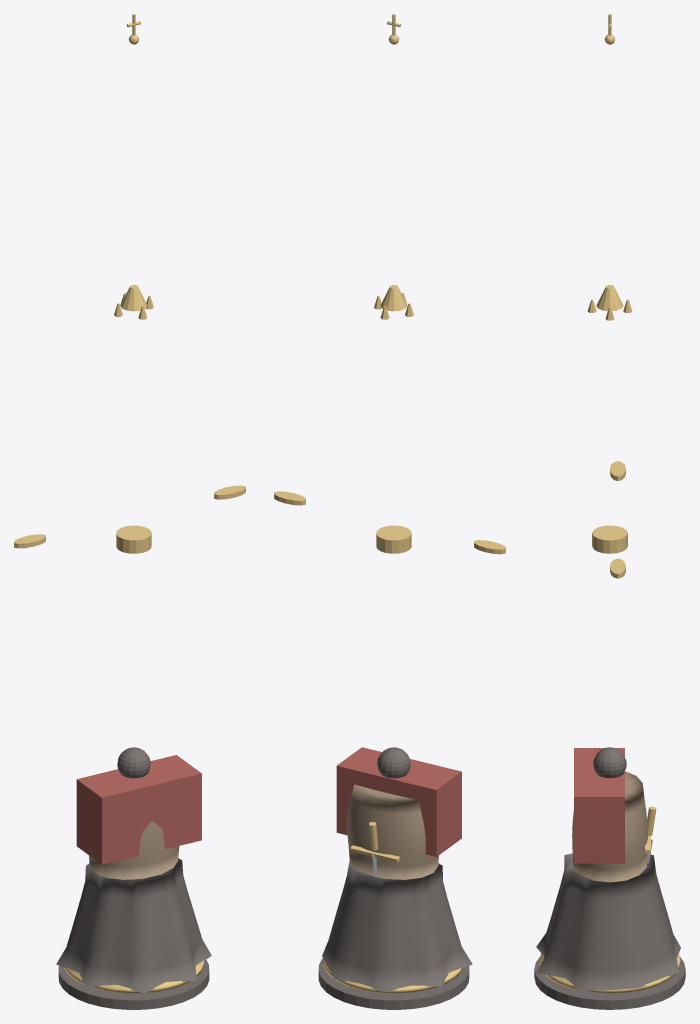
3 renders of one model, left to right at view 1: azimuth 30°, elevation 25°; view 2: azimuth 150°, elevation 25°; view 3: azimuth 270°, elevation 25°, orthographic.
Parts seen in each view (by area): view 1: Raja_Robe, Raja_Mantle, Plinth_Stone, Raja_Cuirass, Raja_CrownTier1, Raja_Head, Plinth_GoldRim; view 2: Raja_Robe, Raja_Mantle, Raja_Cuirass, Plinth_Stone, Raja_CrownTier1, Raja_Head, Plinth_GoldRim; view 3: Raja_Robe, Raja_Mantle, Raja_Cuirass, Plinth_Stone, Raja_CrownTier1, Raja_Head, Plinth_GoldRim, Raja_CrownFinial.
Part boxes in pixels (box(x1,y1,x2,y2)): Raja_Robe: box(56, 858, 211, 993); Raja_Mantle: box(76, 755, 201, 864); Plinth_Stone: box(58, 960, 209, 1009); Raja_Cuirass: box(89, 821, 179, 879); Raja_CrownTier1: box(116, 525, 151, 553); Raja_Head: box(117, 747, 150, 778); Plinth_GoldRim: box(64, 960, 203, 993); Raja_Robe: box(322, 860, 472, 992); Raja_Mantle: box(336, 747, 461, 856); Raja_Cuirass: box(347, 784, 438, 879); Plinth_Stone: box(318, 958, 469, 1009); Raja_CrownTier1: box(376, 525, 411, 553); Raja_Head: box(377, 747, 410, 778); Plinth_GoldRim: box(323, 959, 463, 993); Raja_Robe: box(536, 853, 680, 990); Raja_Mantle: box(574, 748, 624, 863); Raja_Cuirass: box(572, 771, 647, 882); Plinth_Stone: box(534, 956, 685, 1009); Raja_CrownTier1: box(592, 525, 627, 553); Raja_Head: box(593, 747, 626, 778); Plinth_GoldRim: box(539, 952, 680, 993); Raja_CrownFinial: box(596, 285, 623, 310).
Size of the model in its own units: 1.28 by 5.18 by 0.72.
